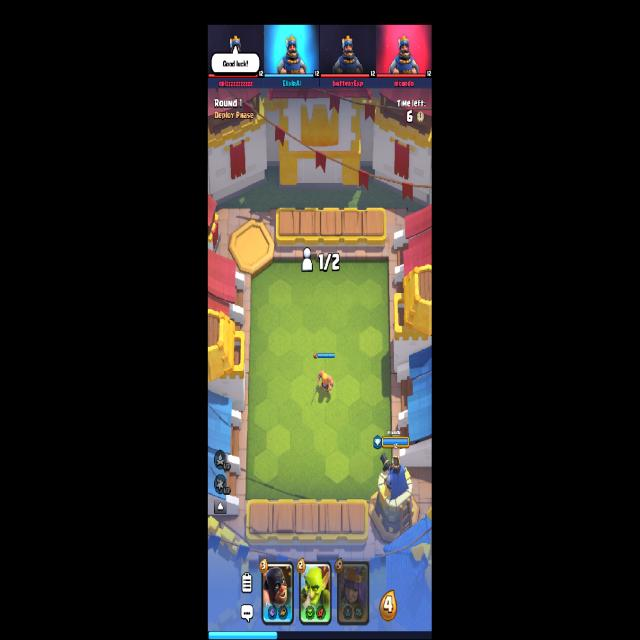barbarian: (312, 371, 334, 397)
card_archer_queen: (337, 562, 370, 626)
card_executioner: (262, 561, 294, 625)
card_goblin: (298, 562, 332, 626)
